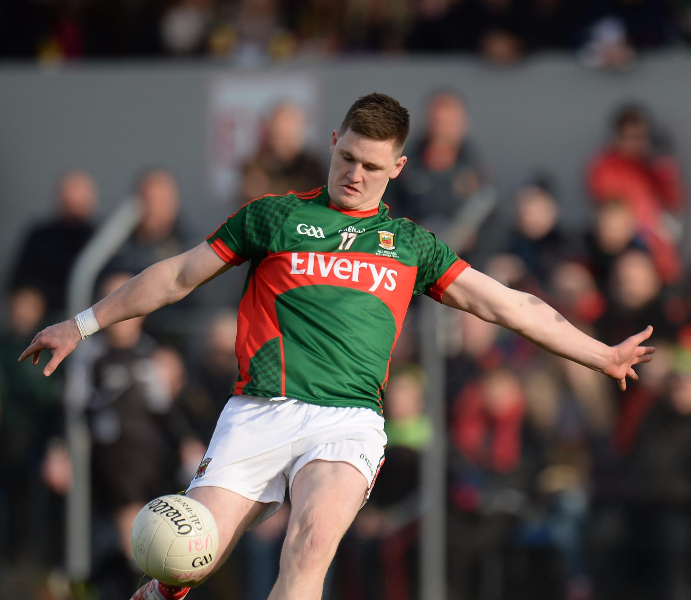ball: (135, 491, 225, 590)
player: (242, 93, 540, 549)
